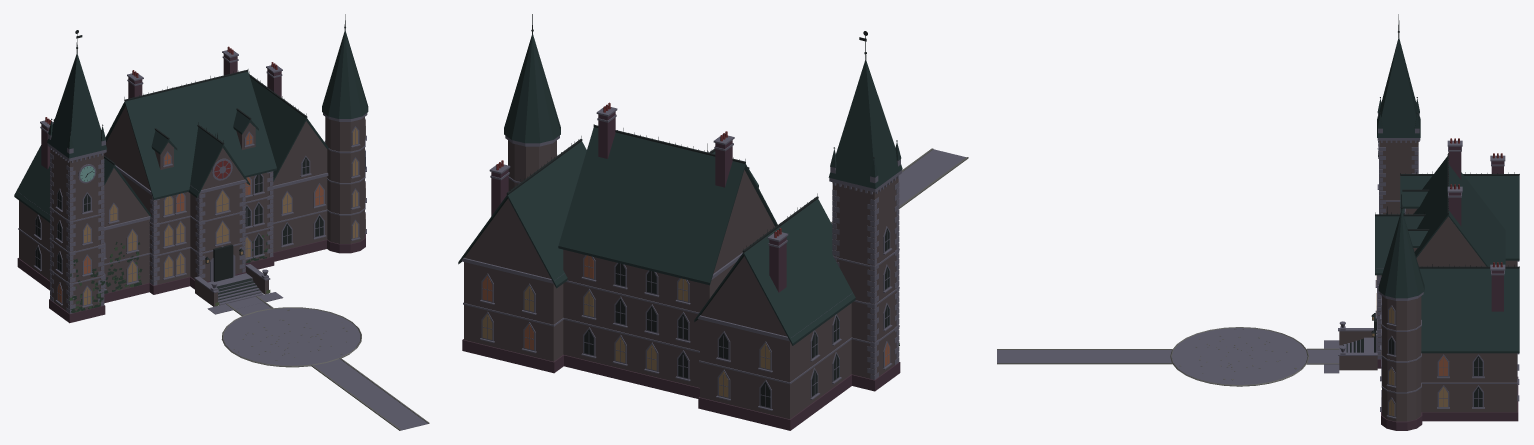
Rendered from conac.glb.
3 views of the same model, side by side, from view 1: azimuth 30°, elevation 25°; view 2: azimuth 150°, elevation 25°; view 3: azimuth 270°, elevation 25° (orthographic). The views are drawn at different scales.
Visible parts, largest first — view 1: Coliziune, Conac, Lumini; view 2: Coliziune, Conac, Lumini; view 3: Coliziune, Conac, Lumini.
Boxes of the visible parts, x1,y1,x2,y2 form: Coliziune: [14, 71, 365, 323]; Conac: [18, 14, 429, 430]; Lumini: [57, 120, 365, 305]; Coliziune: [458, 127, 900, 430]; Conac: [461, 14, 968, 410]; Lumini: [482, 255, 889, 397]; Coliziune: [1339, 140, 1519, 430]; Conac: [997, 14, 1519, 418]; Lumini: [1372, 275, 1447, 415].
Size of the model in its own units: 36.32 by 31.68 by 53.88.
